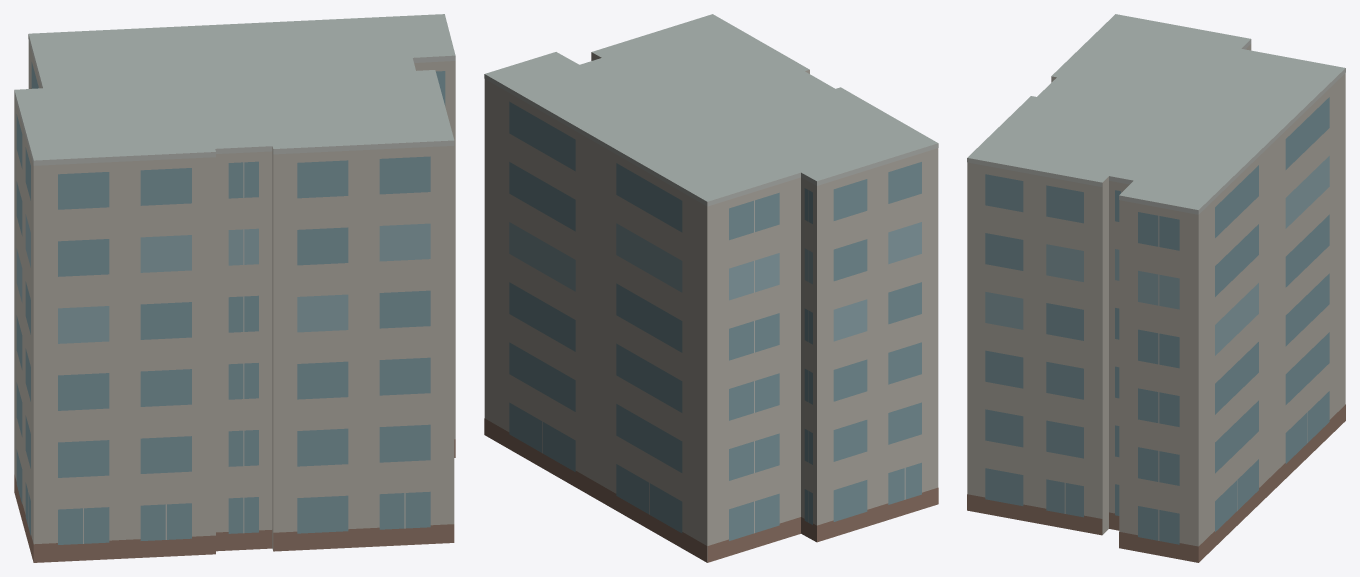
The model's file is survey-upis-32935816.glb.
The picture shows the model from 3 angles, left to right: view 1: azimuth 30°, elevation 25°; view 2: azimuth 150°, elevation 25°; view 3: azimuth 270°, elevation 25°; orthographic projection. The views are drawn at different scales.
Visible parts, largest first — view 1: survey-upis-32935816.tmp; view 2: survey-upis-32935816.tmp; view 3: survey-upis-32935816.tmp.
Part boxes in pixels (x1,y1,x2,y2): survey-upis-32935816.tmp: (14, 14, 455, 562); survey-upis-32935816.tmp: (484, 14, 938, 562); survey-upis-32935816.tmp: (967, 14, 1345, 562).
Bounding box in the file's own units: 22.07 × 18.5 × 18.01.
